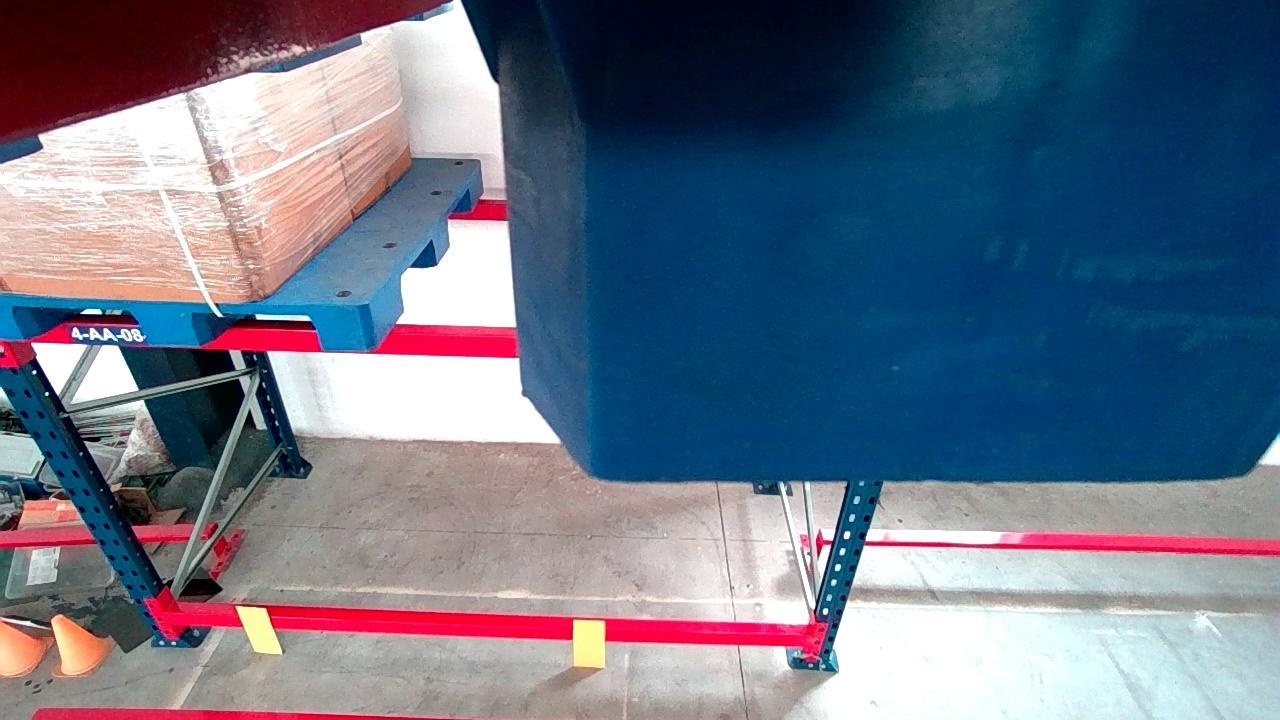h_rack: (165, 611, 805, 646), (31, 324, 518, 356)
orange_strip: (237, 607, 280, 652), (573, 621, 604, 667)
small_pallet: (2, 294, 367, 349)
